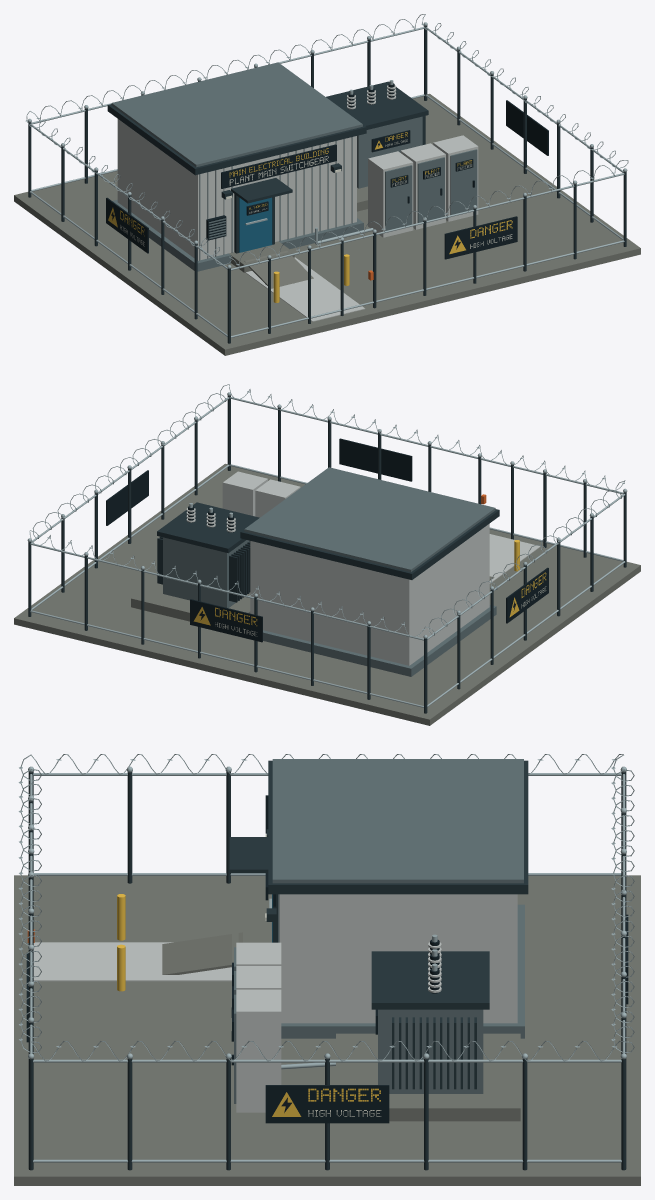
File: main_power_building.glb
3 views of the same model, one above another, from view 1: azimuth 30°, elevation 25°; view 2: azimuth 150°, elevation 25°; view 3: azimuth 270°, elevation 25° (orthographic). The views are drawn at different scales.
Visible parts, largest first — view 1: Plant_Main_Electrical_Building, Electrical_Building_Door, Compound_Access_Gate_Hinge; view 2: Plant_Main_Electrical_Building, Compound_Access_Gate_Hinge; view 3: Plant_Main_Electrical_Building, Compound_Access_Gate_Hinge.
Part boxes in pixels (x1,y1,x2,y2): Plant_Main_Electrical_Building: (14,14,640,355); Electrical_Building_Door: (239,197,272,252); Compound_Access_Gate_Hinge: (307,221,376,323); Plant_Main_Electrical_Building: (14,384,640,725); Compound_Access_Gate_Hinge: (477,446,546,547); Plant_Main_Electrical_Building: (14,754,640,1185); Compound_Access_Gate_Hinge: (18,812,41,942).
Size of the model in its own units: 16.6 by 4.32 by 14.6.
